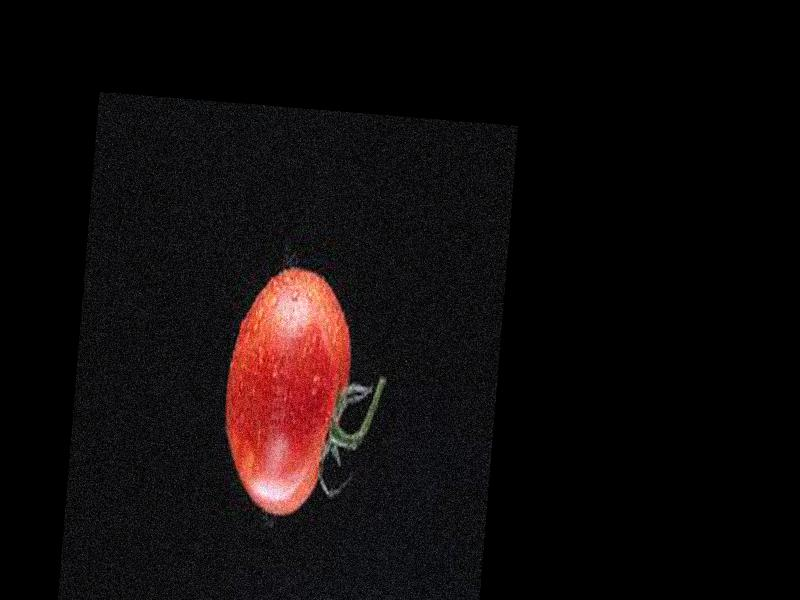Tomato: (216, 262, 358, 519)
